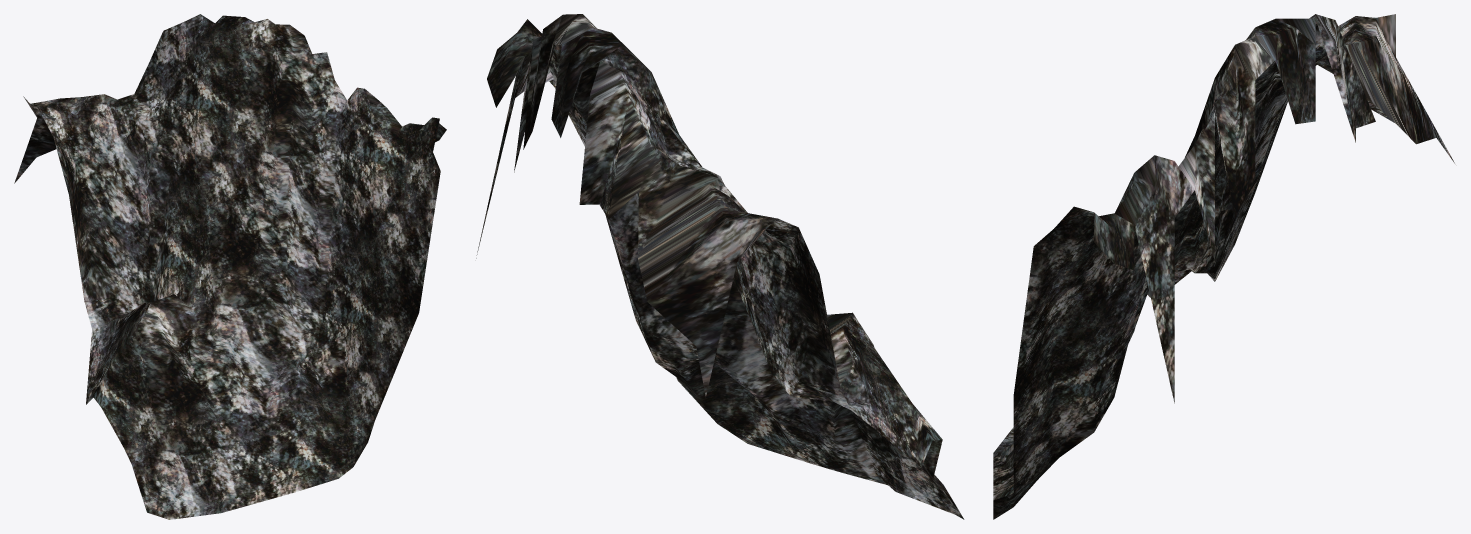
File: OVERHILL_A_01_OBJECT11.fbx
The picture shows the model from 3 angles, left to right: view 1: azimuth 30°, elevation 25°; view 2: azimuth 150°, elevation 25°; view 3: azimuth 270°, elevation 25°; orthographic projection. The views are drawn at different scales.
Visible parts, largest first — view 1: OVERHILL_A_01_OBJECT11; view 2: OVERHILL_A_01_OBJECT11; view 3: OVERHILL_A_01_OBJECT11.
Boxes of the visible parts, x1,y1,x2,y2 form: OVERHILL_A_01_OBJECT11: [14, 14, 446, 519]; OVERHILL_A_01_OBJECT11: [476, 14, 964, 519]; OVERHILL_A_01_OBJECT11: [993, 14, 1455, 519].
Size of the model in its own units: 314547 by 344030 by 286700.
Materials: 1 (1 with a texture image).
